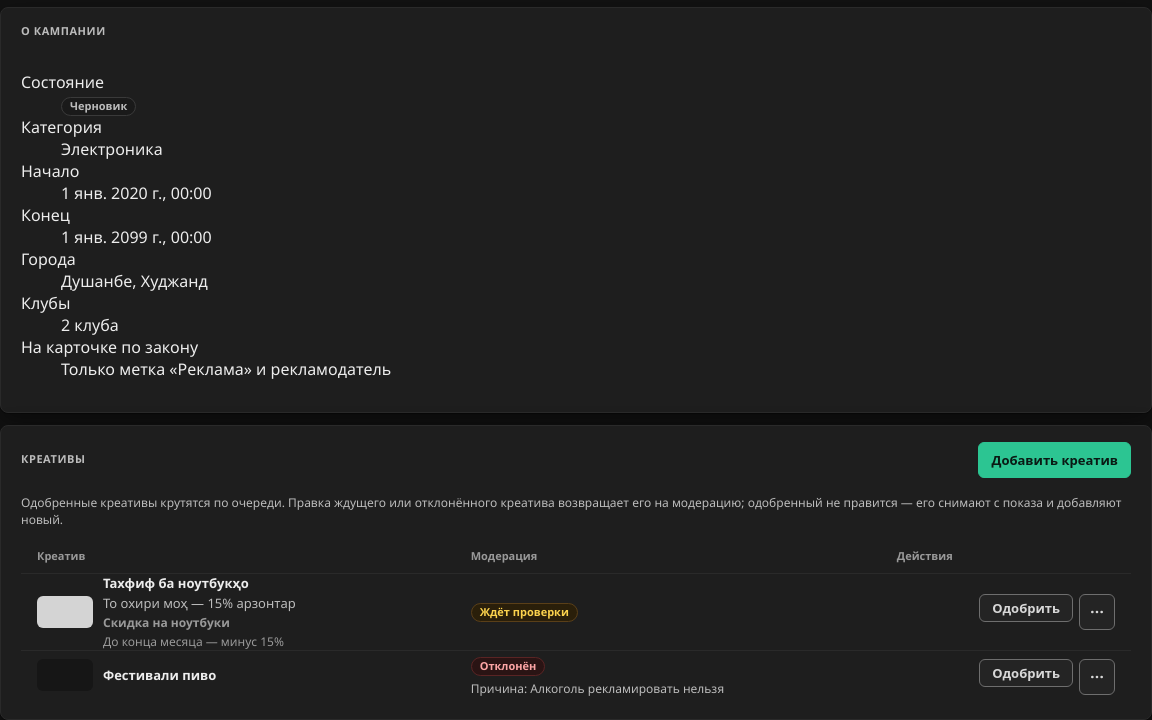
AdCampaignPage › показывает кампанию, нацеливание и креативы — таджикский первым, русский ниже
(page scrolled)
Expected: the text "Душанбе, Худжанд" is shown, [61, 270, 208, 292]
Expected: the text "2 клуба" is shown, [61, 314, 119, 336]
Click the button named "Ещё действия" at (1097, 677), box [1079, 659, 1115, 695]
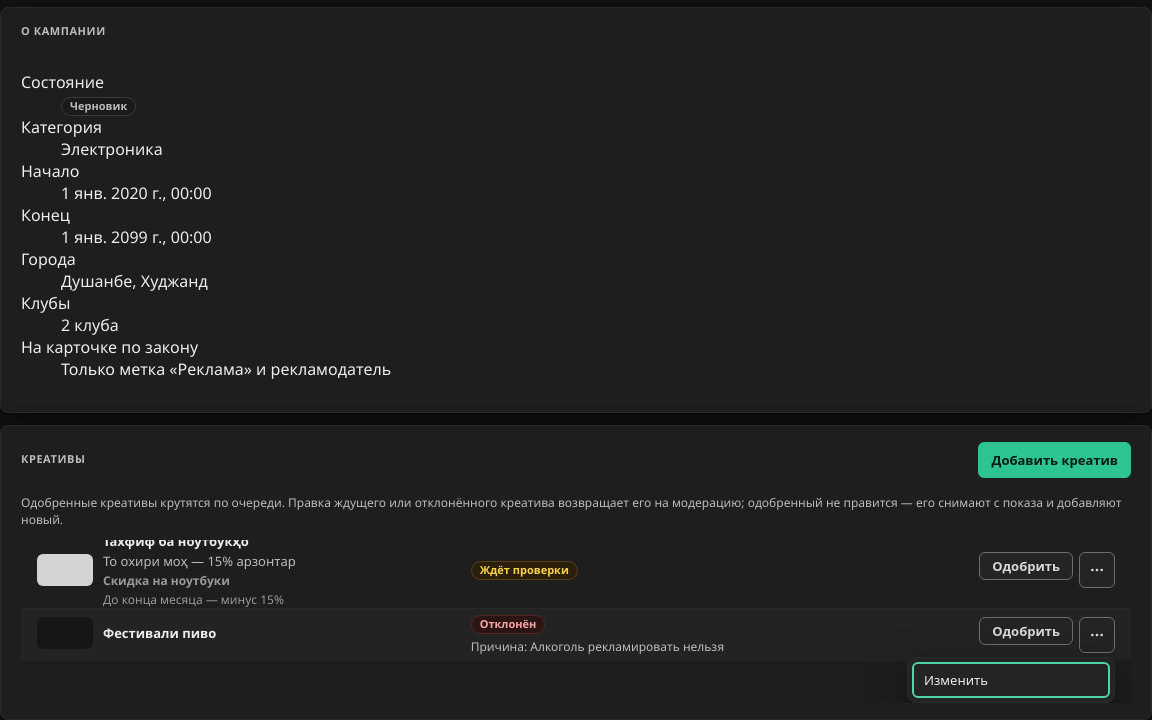
Expected: the menu item "Изменить" is enabled, [912, 662, 1110, 698]
